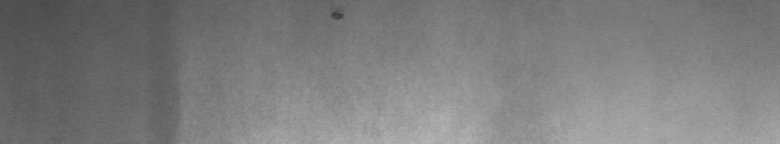fi: (328, 4, 347, 27)
